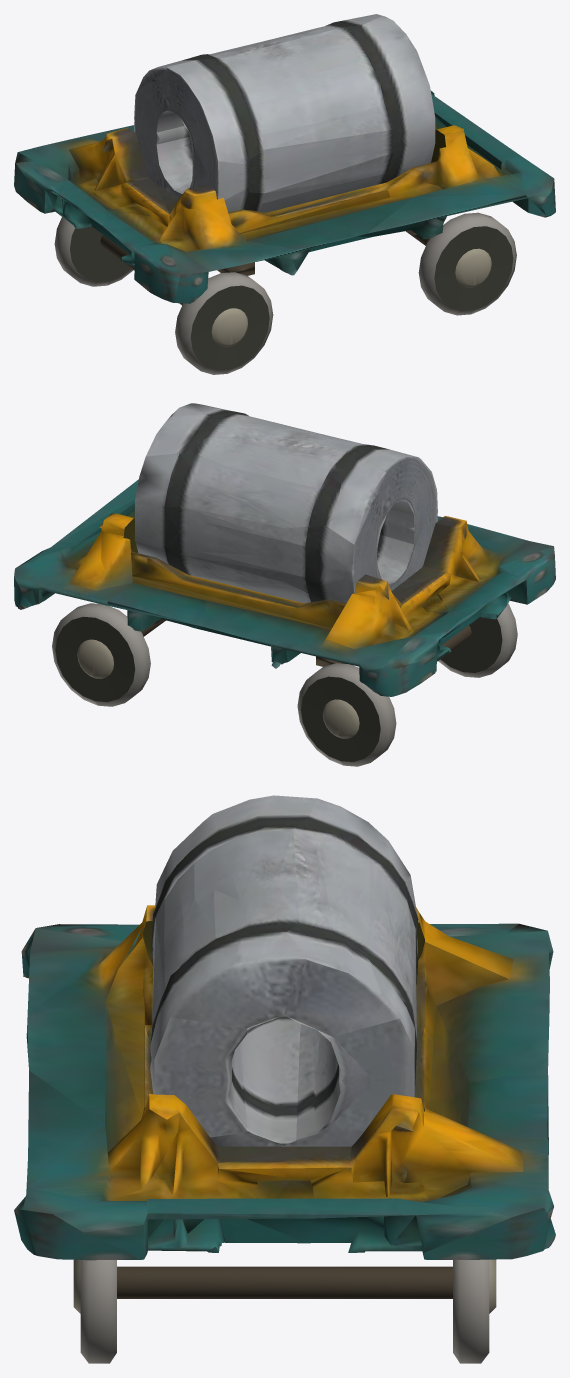
File: rail-cart.glb
3 renders of one model, top to bottom at view 1: azimuth 30°, elevation 25°; view 2: azimuth 150°, elevation 25°; view 3: azimuth 270°, elevation 25°, orthographic. The views are drawn at different scales.
Visible parts, largest first — view 1: load-coil_geometry, rail-cart-chassis_geometry, wheel-front-right_geometry, wheel-rear-right_geometry, wheel-rear-left_geometry; view 2: load-coil_geometry, rail-cart-chassis_geometry, wheel-front-left_geometry, wheel-rear-left_geometry, wheel-rear-right_geometry; view 3: rail-cart-chassis_geometry, load-coil_geometry, wheel-front-left_geometry, wheel-front-right_geometry.
Part boxes in pixels (box(x1,y1,x2,y2)): load-coil_geometry: box(134, 14, 435, 212); rail-cart-chassis_geometry: box(14, 90, 555, 305); wheel-front-right_geometry: box(418, 212, 516, 315); wheel-rear-right_geometry: box(175, 272, 273, 374); wheel-rear-left_geometry: box(54, 217, 133, 286); load-coil_geometry: box(135, 403, 437, 603); rail-cart-chassis_geometry: box(14, 479, 555, 696); wheel-front-left_geometry: box(52, 603, 150, 706); wheel-rear-left_geometry: box(297, 663, 396, 766); wheel-rear-right_geometry: box(438, 603, 517, 677); rail-cart-chassis_geometry: box(14, 905, 555, 1298); load-coil_geometry: box(150, 795, 418, 1146); wheel-front-left_geometry: box(453, 1259, 496, 1363); wheel-front-right_geometry: box(73, 1260, 116, 1363).
Bounding box in the file's own units: 1.3 × 0.795 × 1.
Materials: 1 (1 with a texture image).
